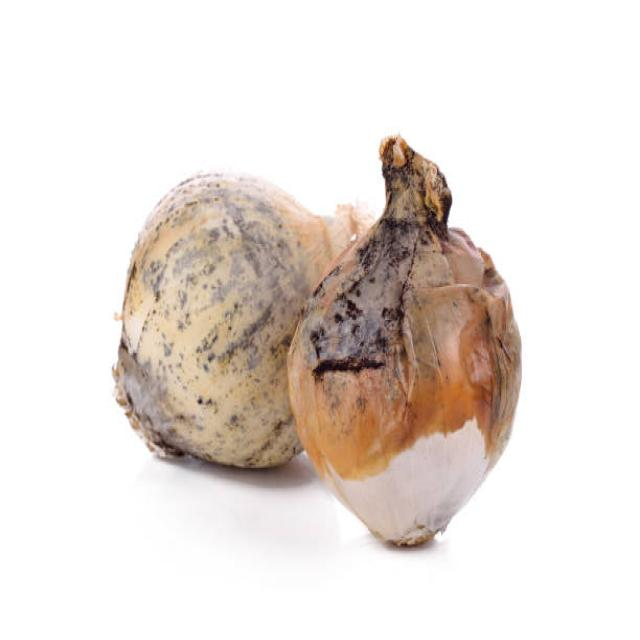rotten: (289, 135, 520, 545)
